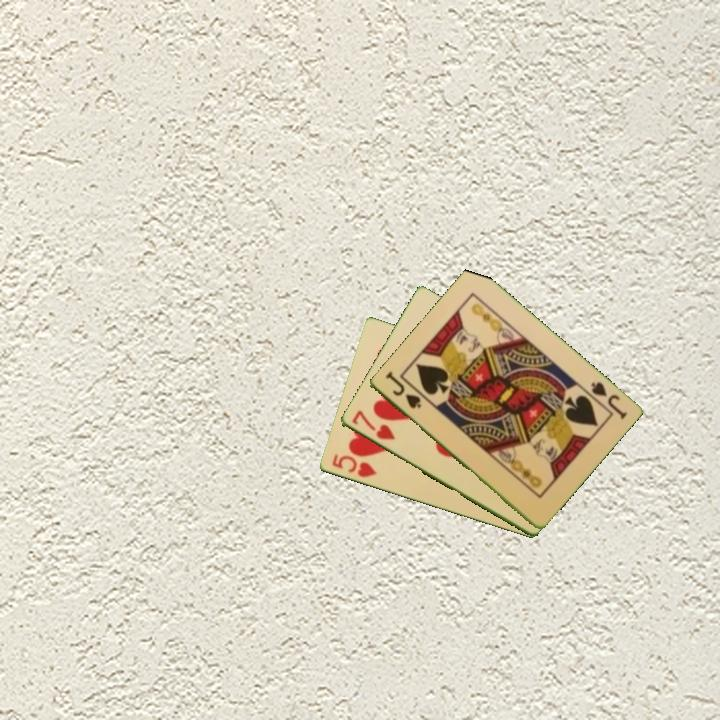5h: (328, 450, 380, 481)
7h: (348, 407, 398, 443)
Js: (587, 378, 630, 422), (381, 369, 424, 412)
